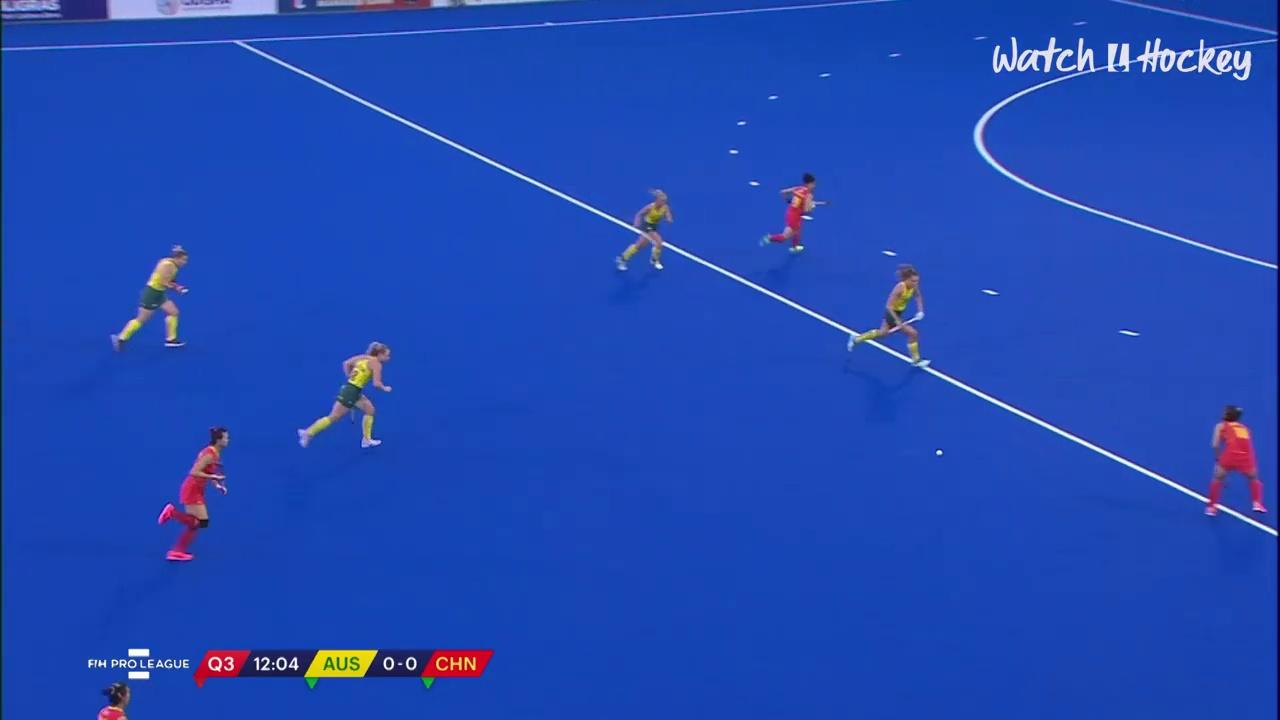ball: (935, 442, 950, 460)
